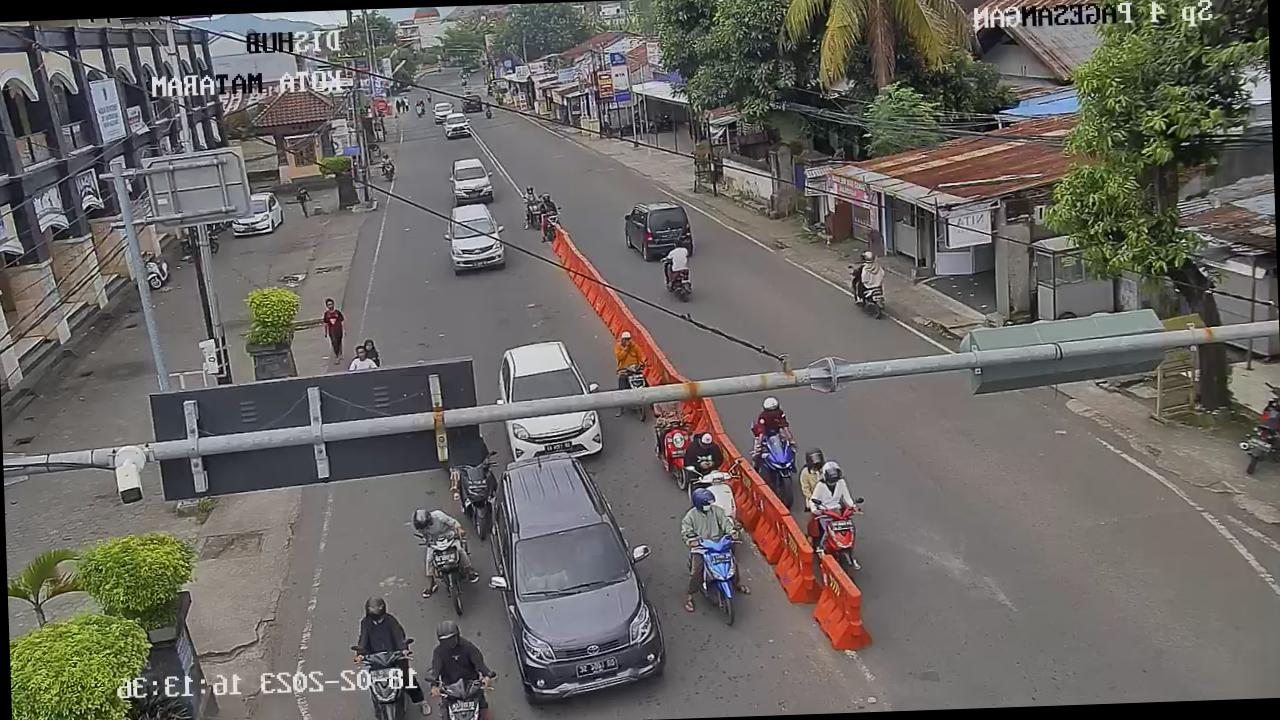car: (484, 441, 678, 711), (494, 334, 609, 468), (620, 195, 697, 264), (446, 199, 506, 277), (450, 160, 492, 207), (443, 110, 472, 141)
motorbike: (680, 522, 754, 626), (414, 519, 481, 603), (449, 450, 508, 542), (812, 496, 871, 580), (420, 665, 503, 720), (752, 426, 802, 504), (652, 413, 699, 487), (537, 204, 566, 246), (524, 193, 548, 234)
person: (676, 489, 746, 608), (426, 615, 493, 693), (348, 592, 414, 671), (803, 445, 861, 519), (408, 500, 467, 559), (747, 396, 799, 450), (680, 428, 724, 481), (318, 294, 349, 352), (851, 244, 889, 290), (614, 328, 647, 373), (662, 235, 698, 275), (347, 342, 379, 378), (524, 182, 544, 207), (377, 146, 397, 170), (540, 192, 561, 214)
